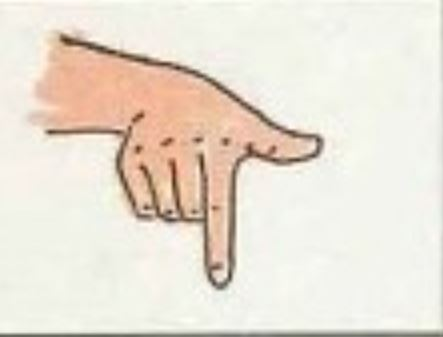기역: (36, 30, 333, 300)
